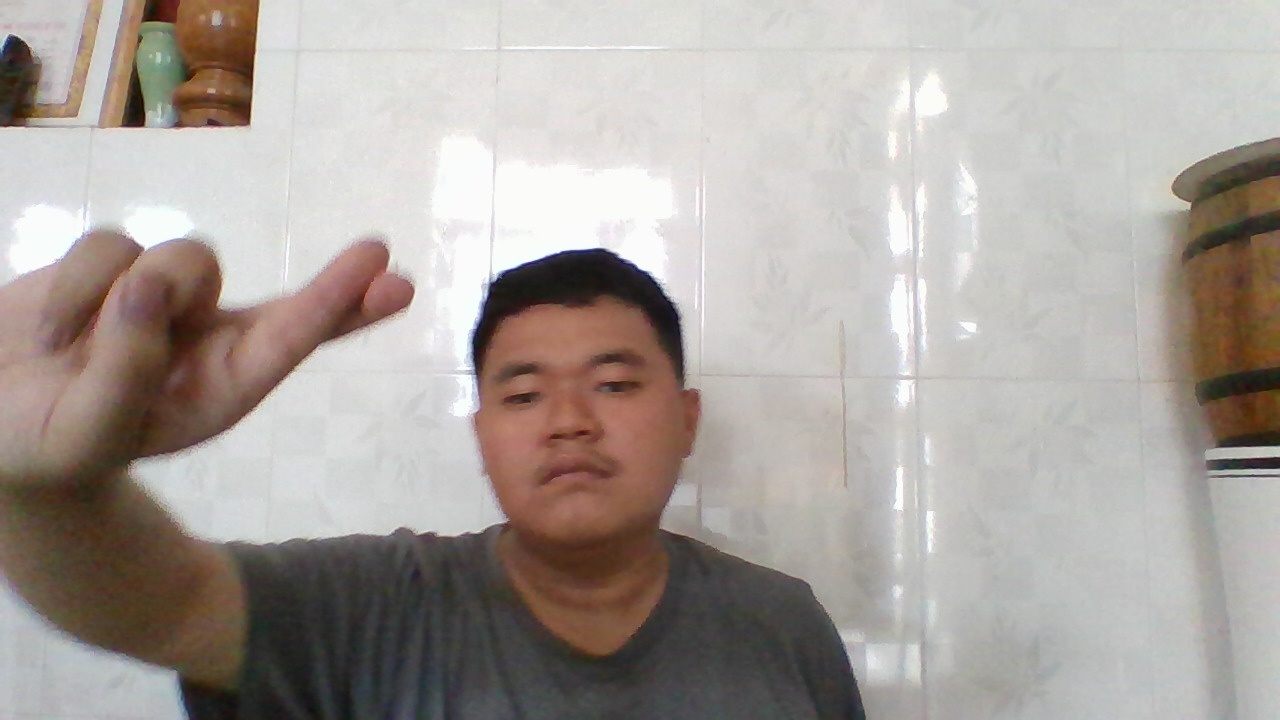R: (0, 228, 403, 459)
